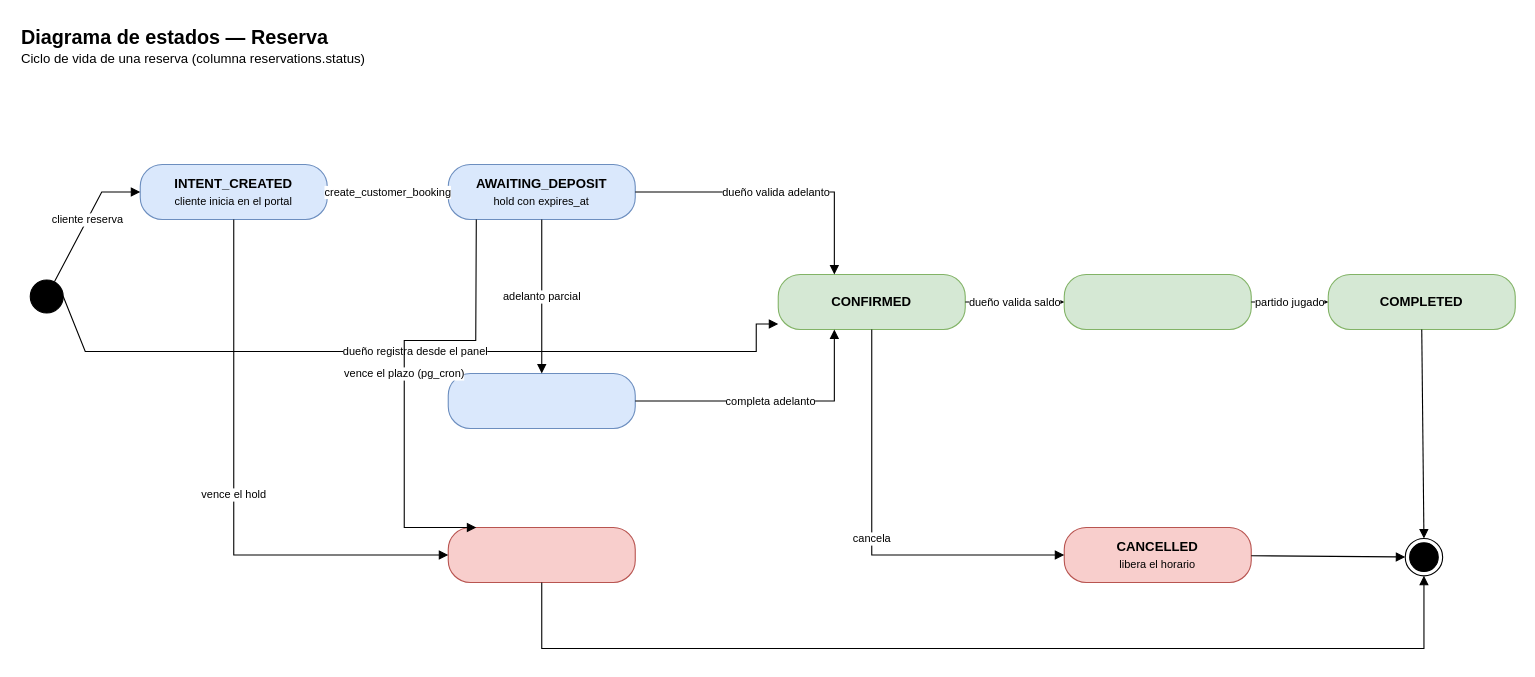
Image size: 1535x677. Some labels were removed from this diagram. Here are the shapes that lost their labels. From the top down, the centre of each, then its label:
At point (1157, 301): "PAID".
At point (541, 400): "PARTIALLY_PAID adelanto parcial".
At point (541, 554): "EXPIRED libera el horario".
